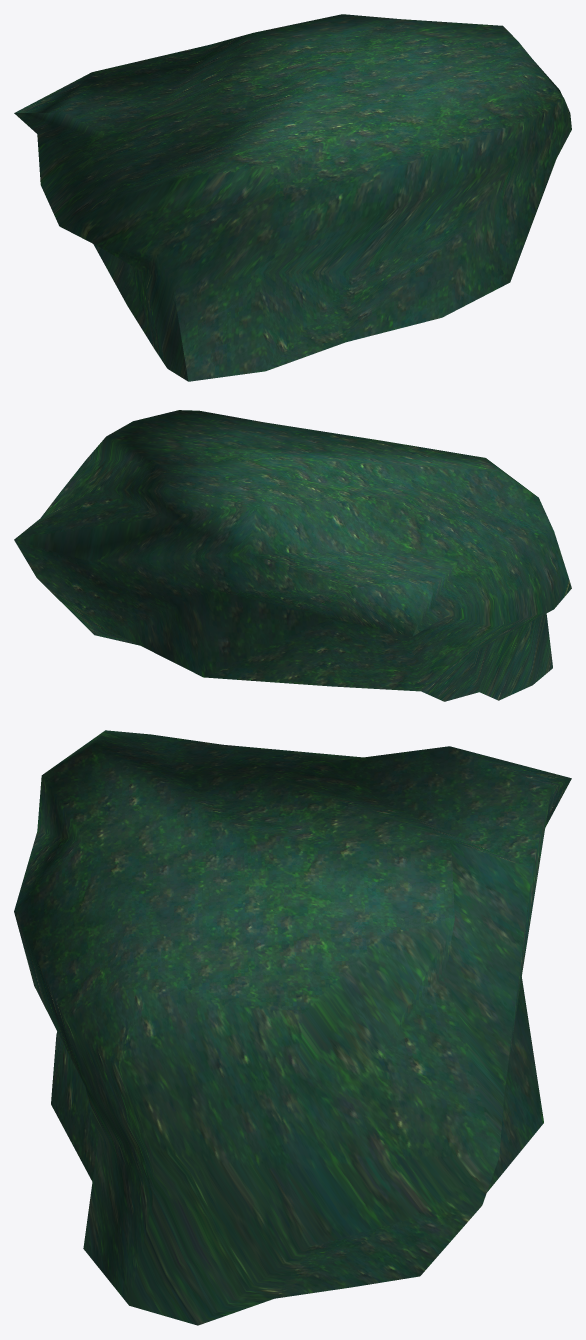
File: MIRKWOOD_MIRK_PLAYSURFACE06.fbx
The picture shows the model from 3 angles, top to bottom: view 1: azimuth 30°, elevation 25°; view 2: azimuth 150°, elevation 25°; view 3: azimuth 270°, elevation 25°; orthographic projection. The views are drawn at different scales.
Parts seen in each view (by area): view 1: MIRKWOOD_MIRK_PLAYSURFACE06; view 2: MIRKWOOD_MIRK_PLAYSURFACE06; view 3: MIRKWOOD_MIRK_PLAYSURFACE06.
Boxes of the visible parts, left/top/right/bottom form: MIRKWOOD_MIRK_PLAYSURFACE06: left=14, top=14, right=571, bottom=381; MIRKWOOD_MIRK_PLAYSURFACE06: left=14, top=410, right=571, bottom=701; MIRKWOOD_MIRK_PLAYSURFACE06: left=14, top=730, right=571, bottom=1325.
Bounding box in the file's own units: 89683 × 37941 × 52888.
1 material, 1 textured.
